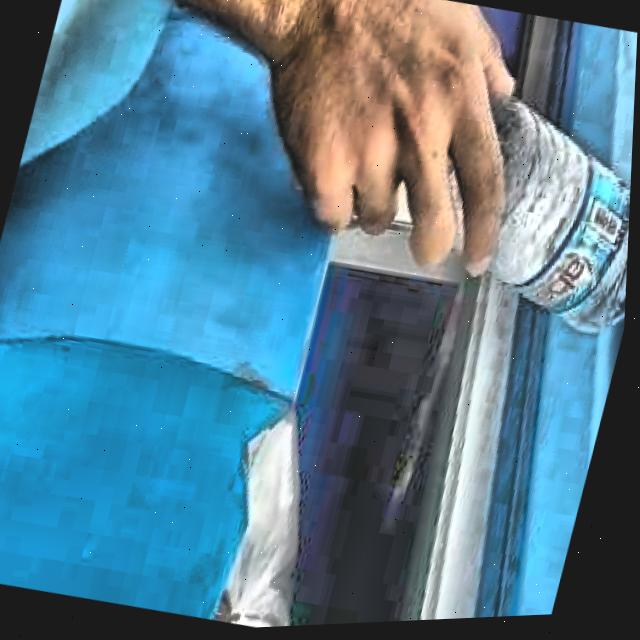plastic: (493, 105, 632, 339)
